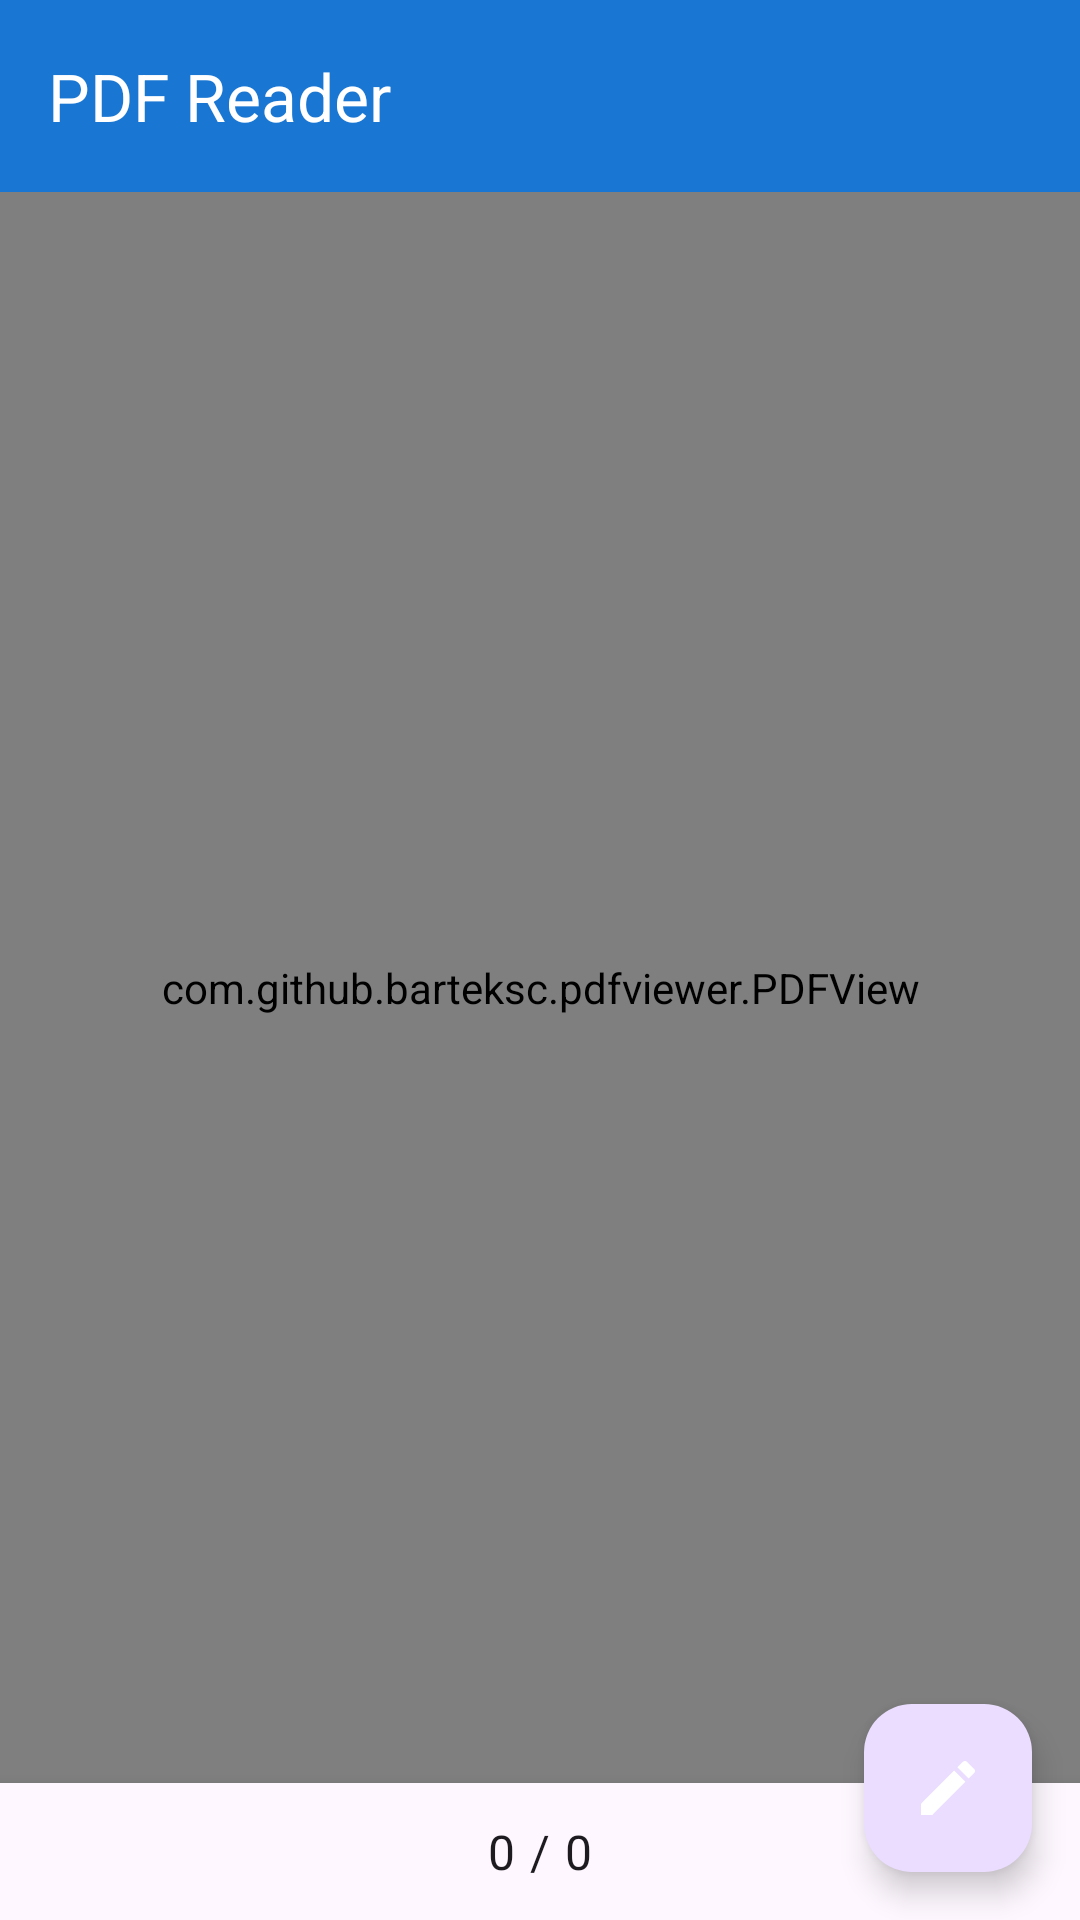

Where to tap for icons on this 1080px×1920px app screen, as point (x, y):
Annotate: point (948, 1788)
